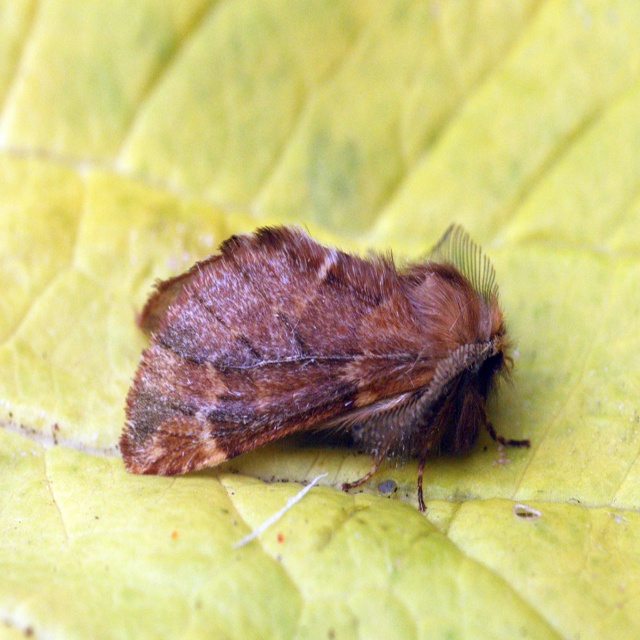Moths and butterflies: (117, 215, 538, 518)
